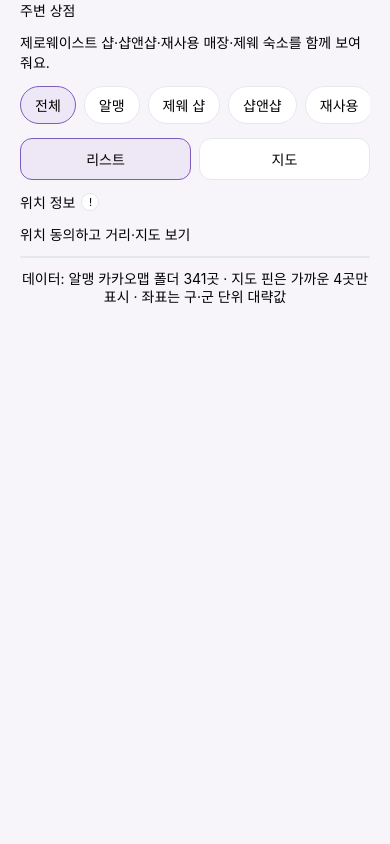
Test: PartnerShopsScreen 위치 미동의 안내 (본문 중복 문구 대신 info 버튼) › 위치 미동의 상태에서는 "위치 정보" info 버튼이 있고, 누르면 안내 문장 한 줄만 보여준다
Expected: the text "위치 정보" is shown, [20, 192, 76, 212]
Click the button named "주변 상점 위치 정보 안내" at (90, 202), box [82, 193, 100, 211]
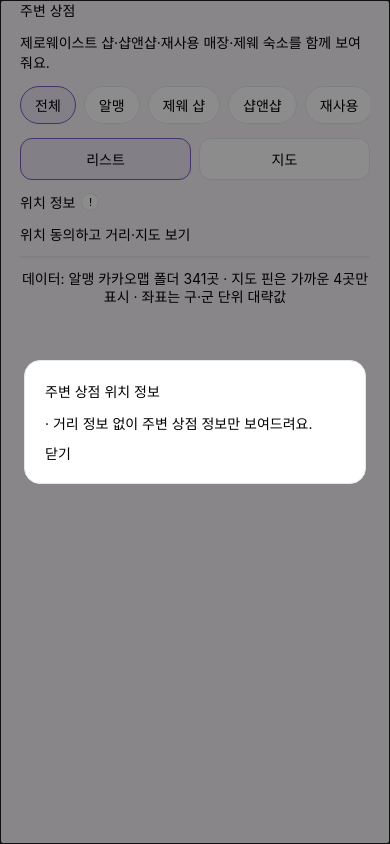
Expected: the text "· 거리 정보 없이 주변 상점 정보만 보여드려요." is shown once, [45, 413, 345, 435]
